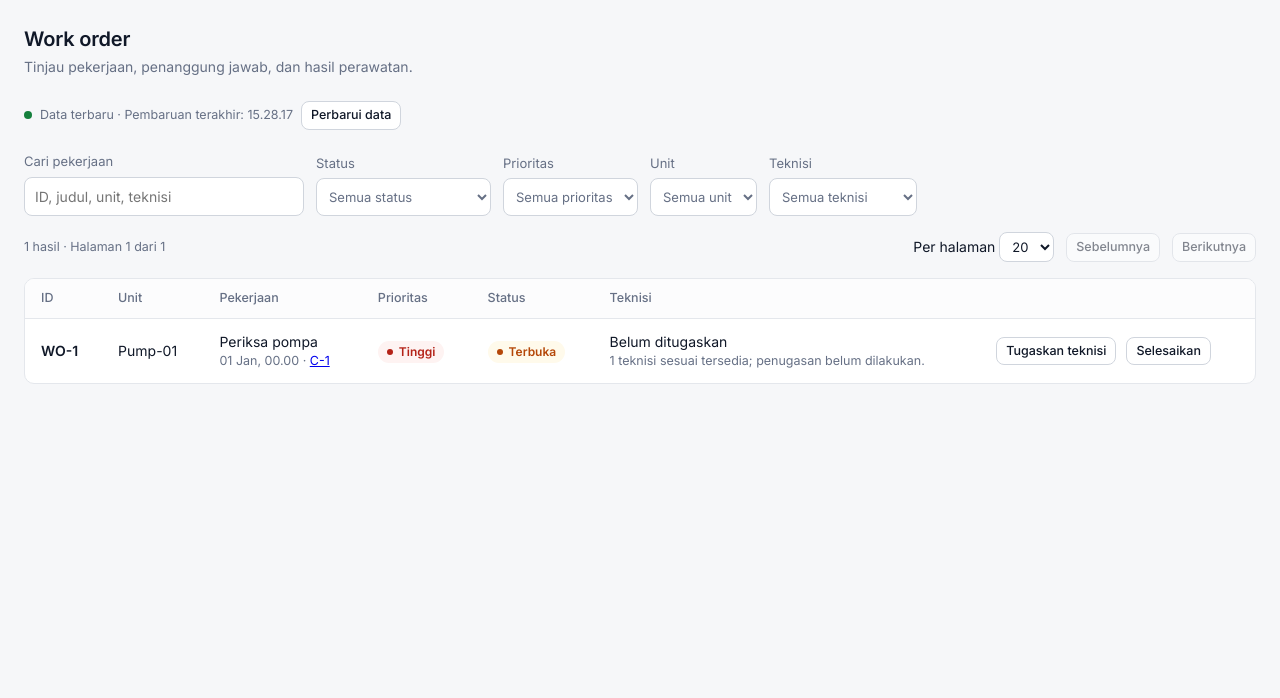
shows assignment only to supervisors and explains an unassigned order
This screenshot has width=1280, height=698.
Expected: the text "1 teknisi sesuai tersedia; penugasan belum dilakukan." is shown, [610,352,964,371]
Click the button "Tugaskan teknisi".
click(1056, 351)  # box [996,336,1116,365]
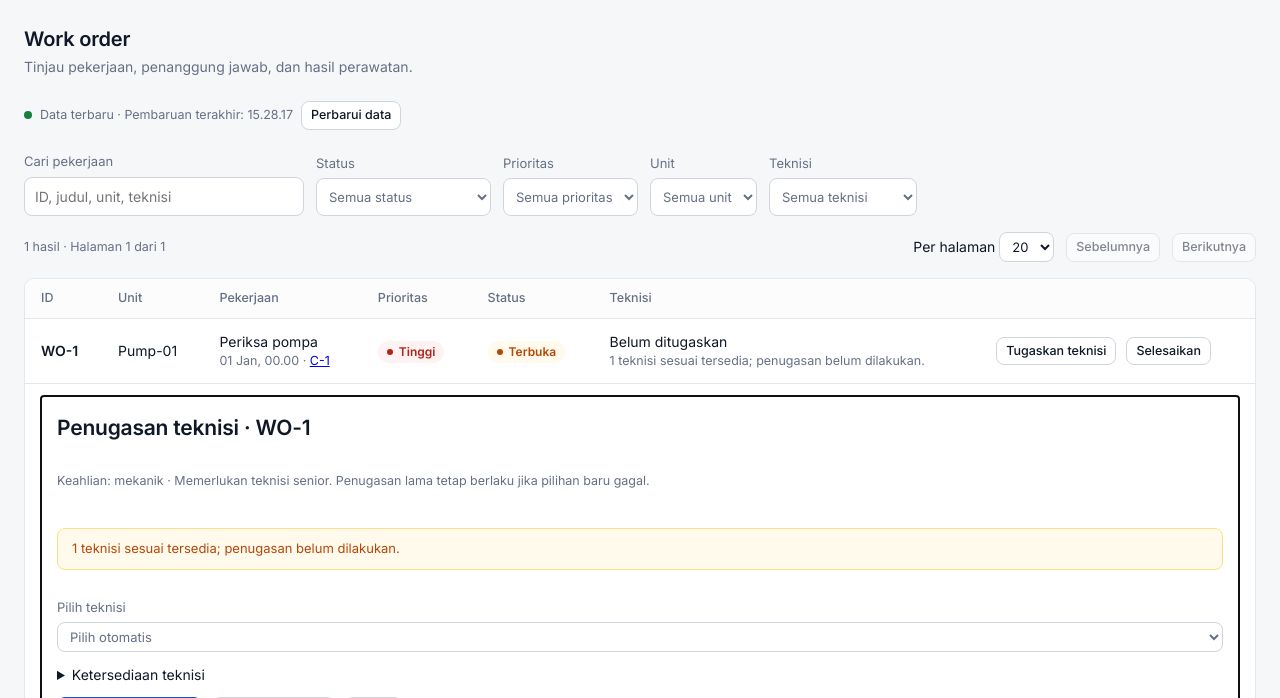
Expected: the dropdown labelled "Pilih teknisi" is shown, [57,622,1223,652]
